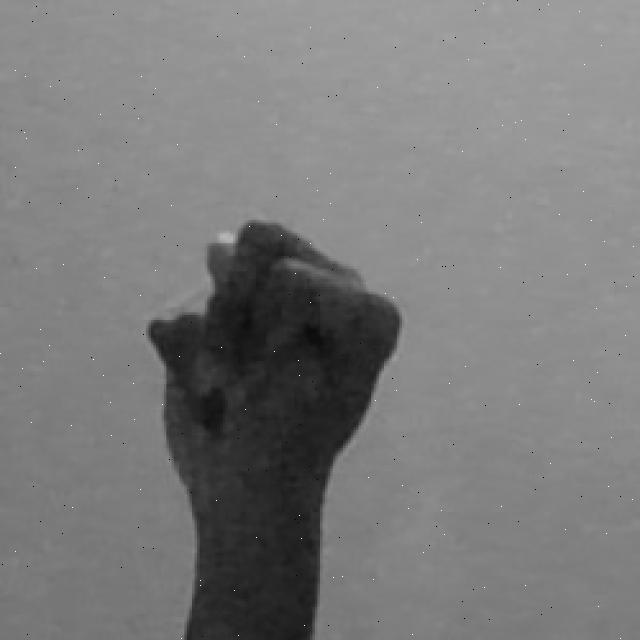N: (143, 211, 406, 640)
